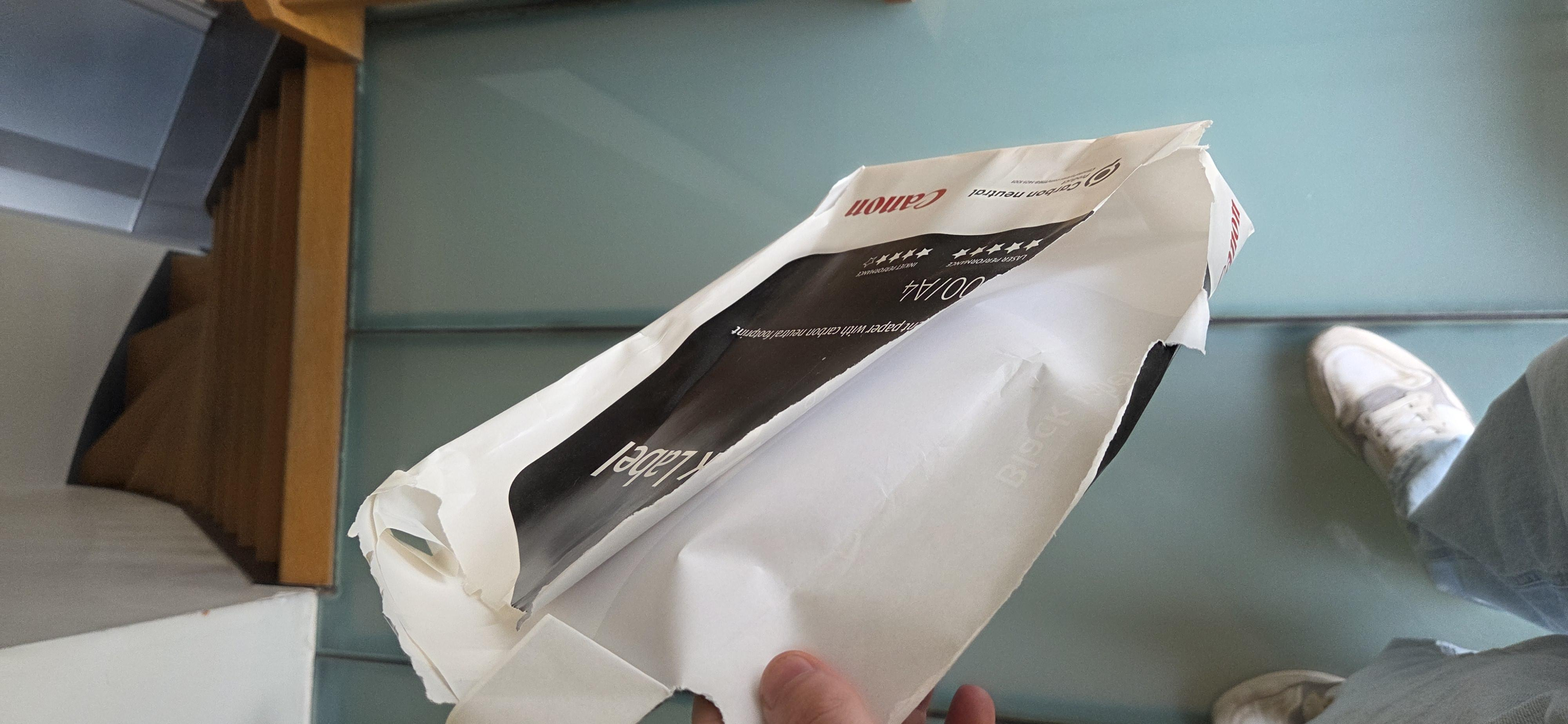Cardboard: (0, 156, 1328, 581)
